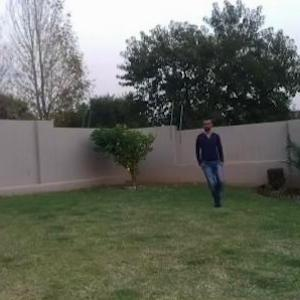follow: (196, 113, 228, 211)
